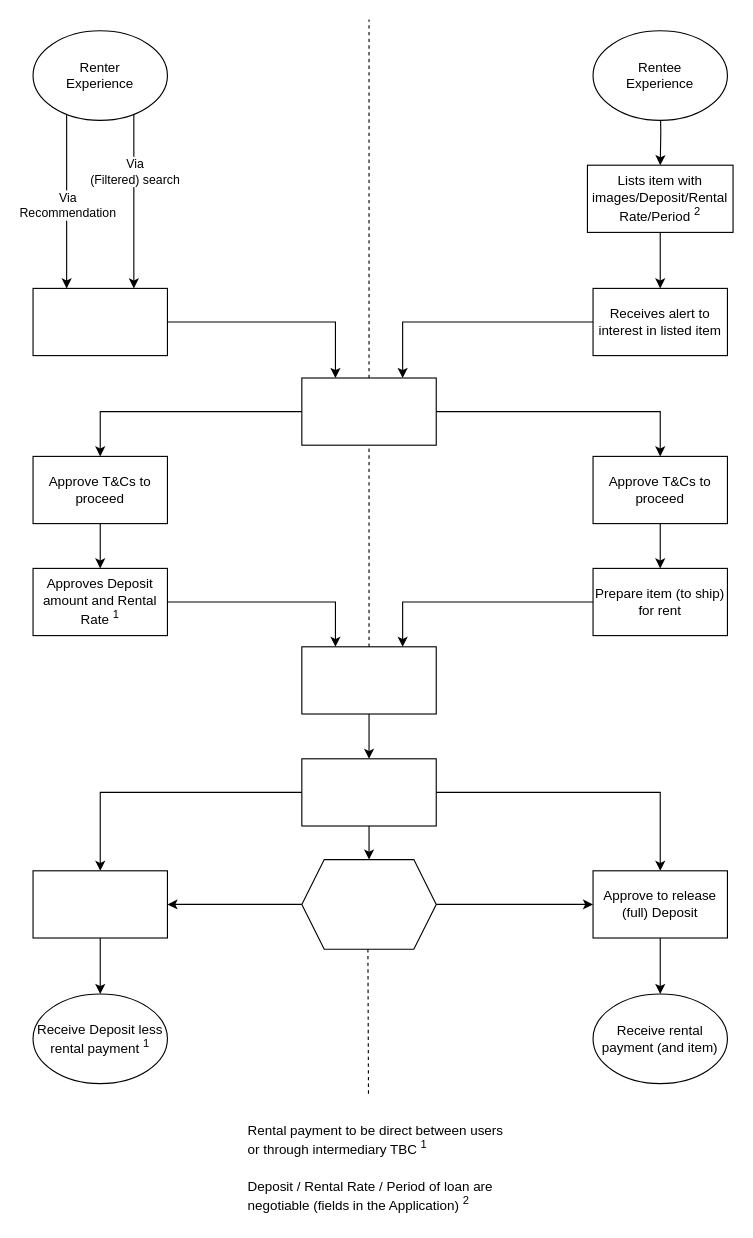
Some shapes in this 753 by 1238 pixel diagram are drawn without their labels. The shapes that lost their labels are listed below. From the top down, each one's centre as x and y in pixels, then its label:
At (99,321): "Finds item or service".
At (368,411): "(Where applicable) negotiate and agree on Deposit/Rental Rate/Period".
At (368,680): "RENT Meet or ship item".
At (368,792): "RETURN Meet or ship item".
At (99,904): "Approve to release rental payment".
At (368,903): "Dispute Handling (if any)".
